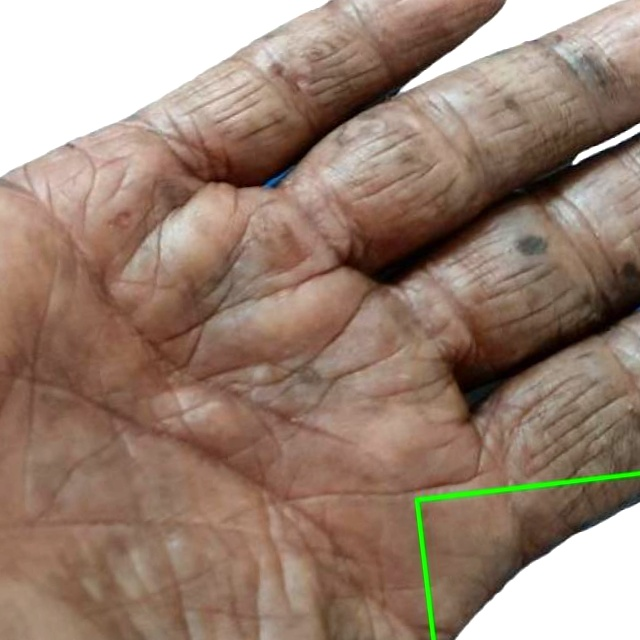Eczema: (417, 473, 639, 639)
